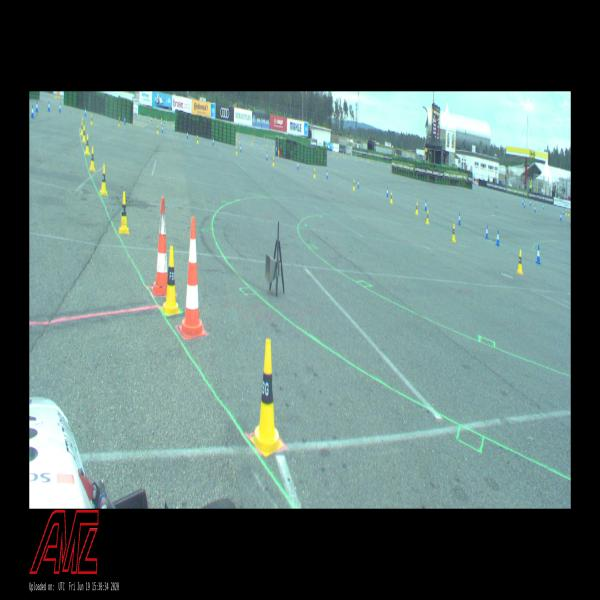blue_cone: (536, 245, 541, 264), (496, 230, 500, 246), (31, 105, 34, 118), (458, 213, 461, 225), (424, 200, 427, 211), (35, 101, 38, 112), (386, 187, 389, 197), (486, 225, 488, 239), (59, 102, 61, 112), (48, 102, 50, 111), (297, 161, 299, 170), (326, 169, 328, 178), (84, 108, 86, 116), (266, 152, 268, 160), (124, 116, 126, 124), (534, 204, 536, 212), (240, 145, 242, 152), (522, 198, 524, 205), (358, 179, 359, 188), (213, 138, 214, 146), (524, 200, 525, 208), (560, 212, 561, 220), (187, 131, 188, 138), (162, 126, 163, 132), (543, 204, 544, 210), (563, 208, 564, 214), (530, 200, 531, 205)
large_orange_cone: (179, 216, 205, 338), (152, 197, 167, 295)
yellow_cone: (251, 339, 283, 456), (161, 246, 180, 315), (119, 192, 129, 233), (100, 164, 107, 195), (90, 146, 96, 172), (517, 249, 523, 274), (85, 134, 90, 154), (452, 223, 456, 242), (82, 126, 86, 142), (426, 209, 429, 224), (80, 121, 83, 135), (415, 202, 418, 215), (90, 114, 93, 125), (390, 192, 393, 203), (314, 168, 316, 178), (353, 180, 355, 190), (157, 124, 159, 134), (236, 146, 238, 155), (196, 135, 198, 143), (118, 118, 120, 126), (273, 157, 274, 166), (566, 209, 567, 216), (568, 209, 569, 216)
